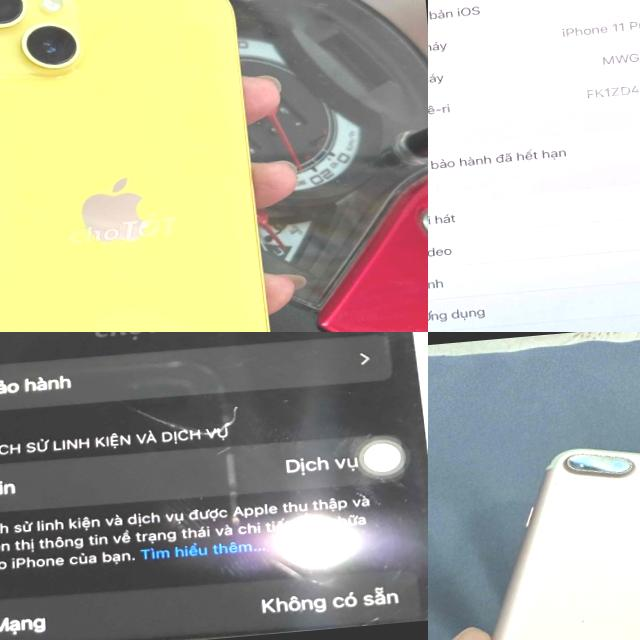gen_11: (428, 0, 640, 332)
gen_14: (0, 0, 300, 332)
gen_7_8: (0, 332, 428, 640), (428, 422, 640, 640)
scratch: (548, 446, 639, 488), (558, 608, 594, 630)
